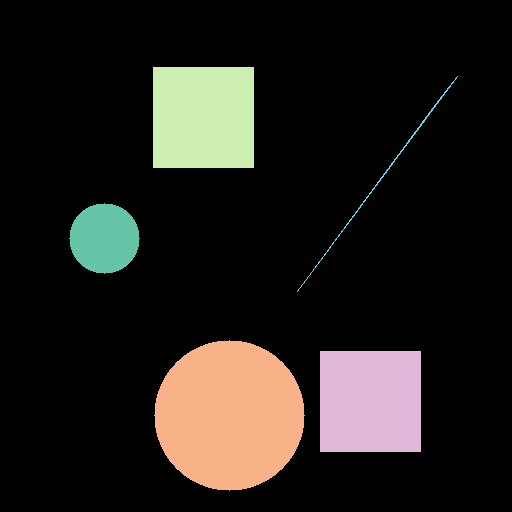circle: (154, 340, 304, 490), (69, 203, 139, 273)
square: (320, 351, 420, 451), (153, 67, 253, 167)
